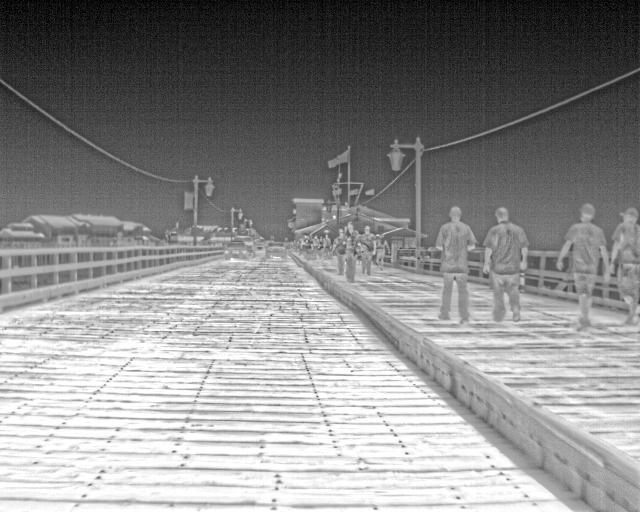bicycle: (221, 236, 251, 259), (262, 239, 289, 260)
empty: (555, 201, 612, 335), (479, 206, 528, 319), (433, 203, 475, 322), (607, 206, 639, 328), (340, 220, 362, 280), (358, 224, 376, 277), (373, 233, 391, 272), (330, 228, 347, 255)
